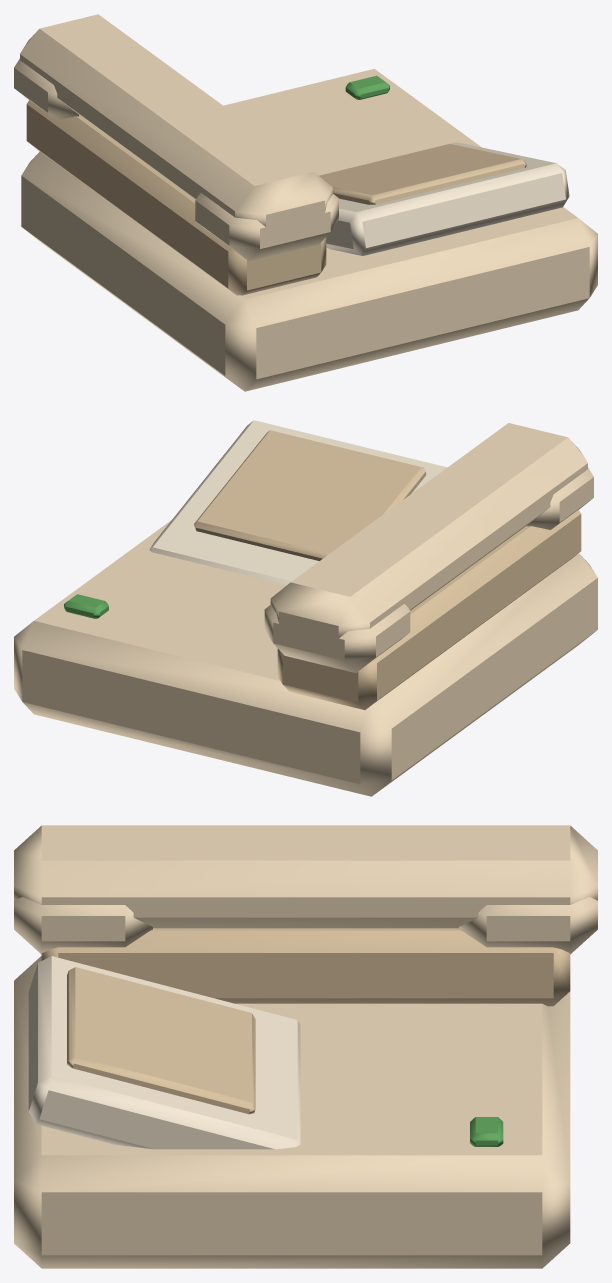
The model's file is era_desk_phone.glb.
3 views of the same model, one above another, from view 1: azimuth 30°, elevation 25°; view 2: azimuth 150°, elevation 25°; view 3: azimuth 270°, elevation 25° (orthographic). The views are drawn at different scales.
Parts seen in each view (by area): view 1: era_desk_phone; view 2: era_desk_phone; view 3: era_desk_phone.
Boxes of the visible parts, box(x1,y1,x2,y2) form: era_desk_phone: box(14, 14, 597, 391); era_desk_phone: box(14, 420, 597, 796); era_desk_phone: box(14, 825, 597, 1268).
Size of the model in its own units: 0.19 by 0.099 by 0.21.
